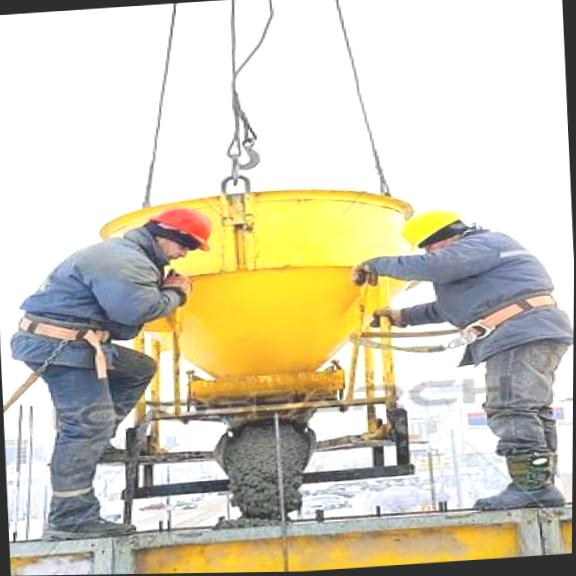no_safety_vest: (24, 235, 187, 393), (405, 238, 573, 370)
